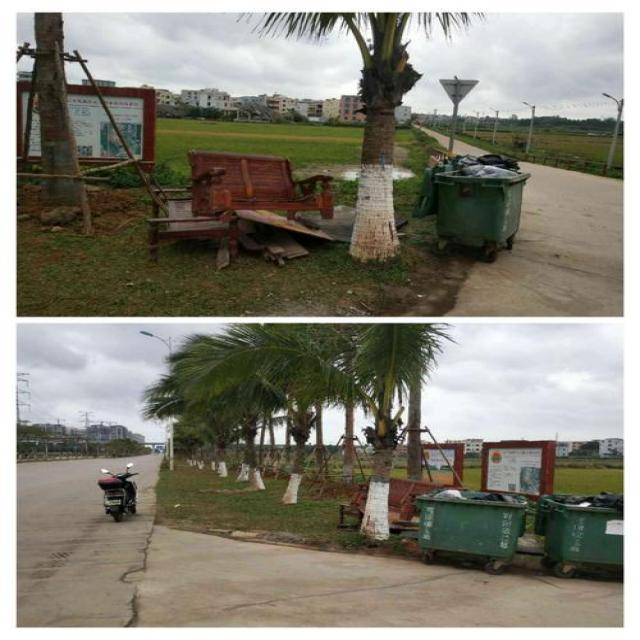overflow: (412, 152, 531, 243), (412, 484, 522, 556), (531, 492, 622, 564)
